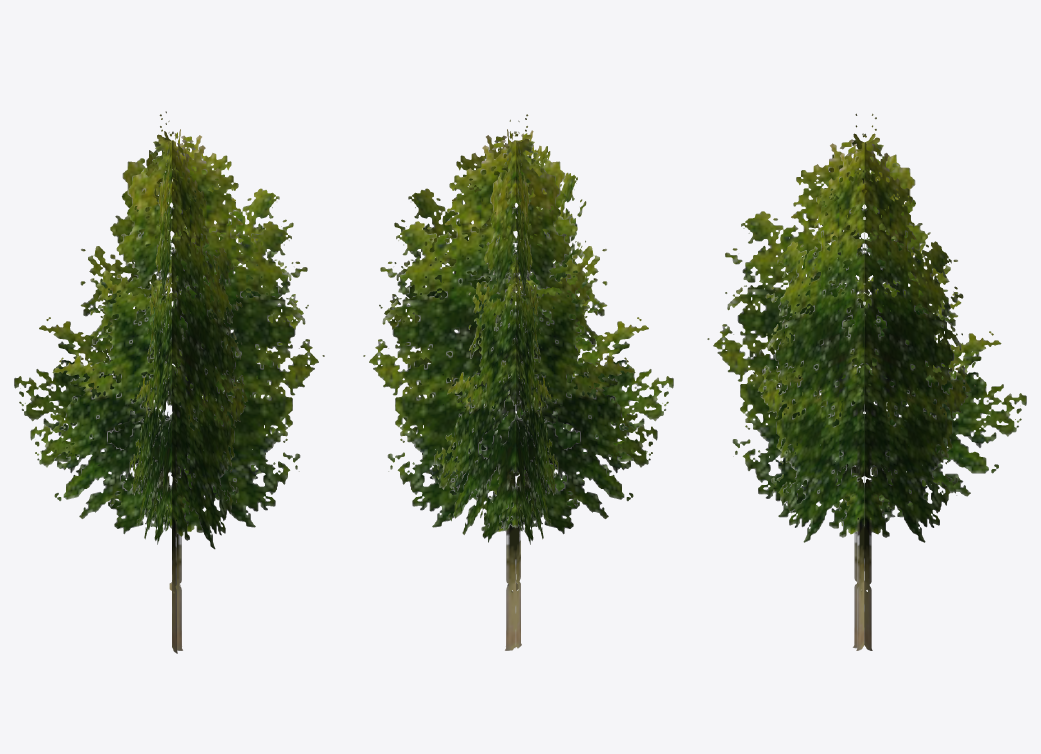
Rendered from tree.FBX.
3 views of the same model, side by side, from view 1: azimuth 30°, elevation 25°; view 2: azimuth 150°, elevation 25°; view 3: azimuth 270°, elevation 25° (orthographic).
Visible parts, largest first — view 1: Plane017, Plane016, Plane018, Plane015; view 2: Plane015, Plane016, Plane018, Plane017; view 3: Plane017, Plane015, Plane018.
Part boxes in pixels (x1,y1,x2,y2): Plane017: (14,114,324,650); Plane016: (30,118,308,590); Plane018: (91,111,250,653); Plane015: (129,120,202,590); Plane015: (363,114,673,650); Plane016: (379,118,657,592); Plane018: (434,119,591,648); Plane017: (485,120,558,647); Plane017: (753,113,979,650); Plane015: (749,113,975,650); Plane018: (707,117,1026,648).
Size of the model in its own units: 25 by 50 by 25.
Materials: 1 (1 with a texture image).
